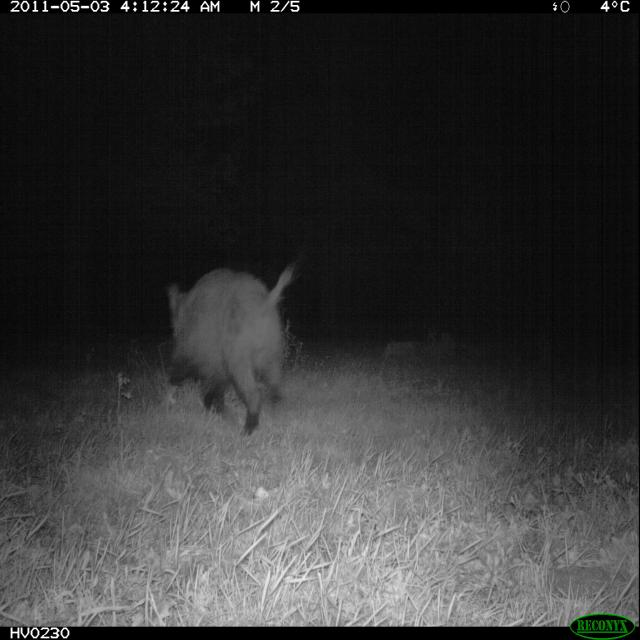boar: (115, 248, 321, 454)
